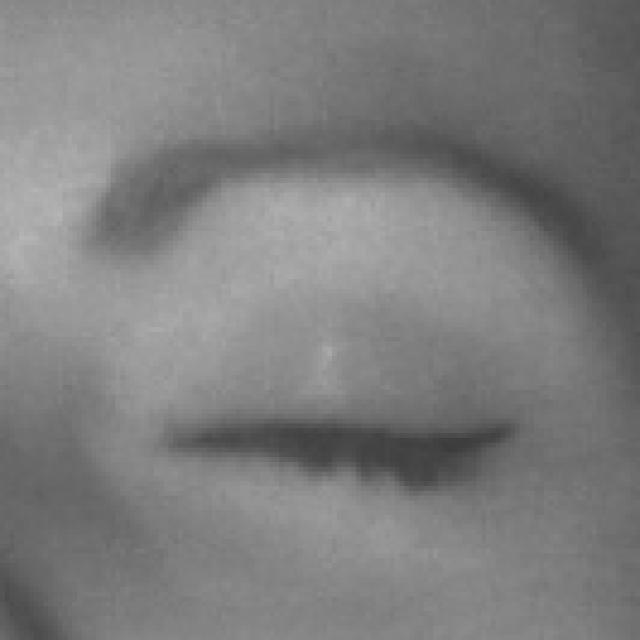close: (68, 47, 640, 584)
